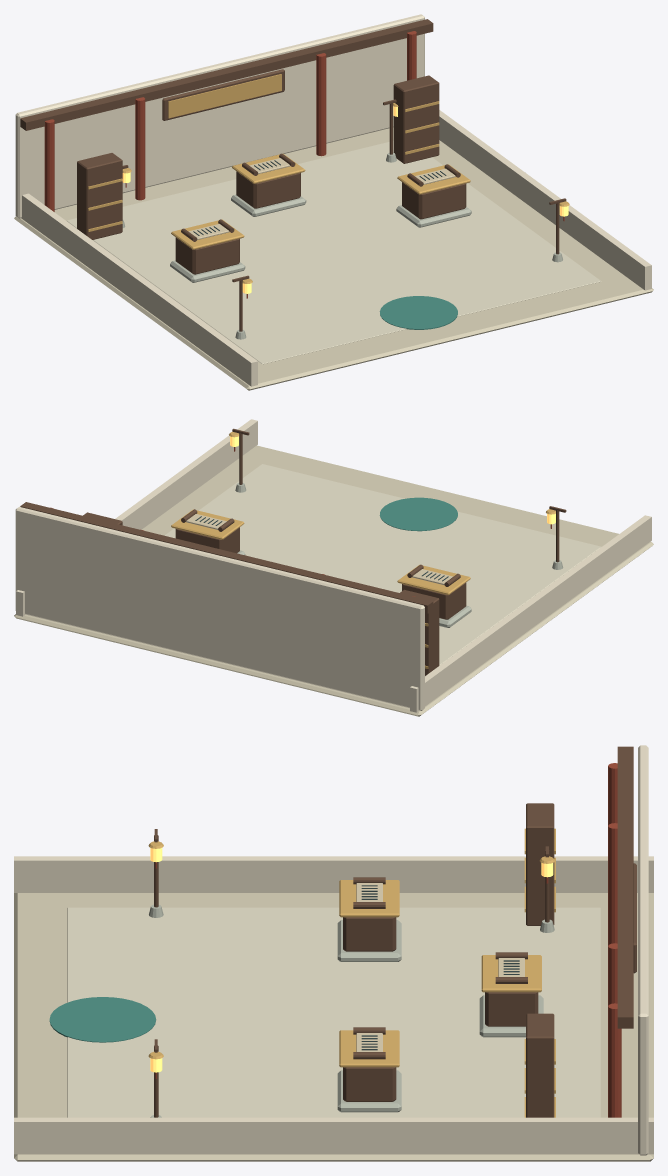
The picture shows the model from 3 angles, top to bottom: view 1: azimuth 30°, elevation 25°; view 2: azimuth 150°, elevation 25°; view 3: azimuth 270°, elevation 25°; orthographic projection. The views are drawn at different scales.
Parts seen in each view (by area): view 1: Village_PavingLight, Village_Plaster, Village_Wood, Village_Paving, Village_Gold, Village_RedWood, Village_Stone, Village_Jade, Village_Ivory; view 2: Village_Plaster, Village_PavingLight, Village_Paving, Village_Wood, Village_Jade, Village_Gold, Village_Ivory, Village_Stone; view 3: Village_PavingLight, Village_Plaster, Village_Paving, Village_Wood, Village_Gold, Village_RedWood, Village_Jade, Village_Stone, Village_Ivory.
Boxes of the visible parts, left/top/right/bottom form: Village_PavingLight: left=67, top=141, right=601, bottom=364; Village_Plaster: left=15, top=14, right=651, bottom=386; Village_Wood: left=20, top=19, right=566, bottom=331; Village_Paving: left=14, top=127, right=653, bottom=390; Village_Gold: left=88, top=74, right=569, bottom=283; Village_RedWood: left=44, top=31, right=564, bottom=298; Village_Stone: left=122, top=152, right=562, bottom=339; Village_Jade: left=379, top=296, right=457, bottom=329; Village_Ivory: left=188, top=158, right=455, bottom=239; Village_Plaster: left=15, top=419, right=651, bottom=712; Village_PavingLight: left=165, top=464, right=600, bottom=665; Village_Paving: left=14, top=445, right=653, bottom=716; Village_Wood: left=20, top=428, right=566, bottom=675; Village_Jade: left=379, top=497, right=457, bottom=531; Village_Gold: left=171, top=431, right=555, bottom=668; Village_Ivory: left=186, top=514, right=452, bottom=585; Village_Stone: left=235, top=483, right=563, bottom=627; Village_PavingLight: left=67, top=907, right=600, bottom=1117; Village_Plaster: left=14, top=745, right=653, bottom=1155; Village_Paving: left=14, top=893, right=653, bottom=1161; Village_Wood: left=154, top=746, right=636, bottom=1117; Village_Gold: left=148, top=828, right=555, bottom=1117; Village_RedWood: left=155, top=763, right=621, bottom=1117; Village_Jade: left=49, top=997, right=156, bottom=1042; Village_Stone: left=149, top=904, right=554, bottom=1117; Village_Ivory: left=356, top=883, right=524, bottom=1051.
Bounding box in the file's own units: 18 × 4.6 × 18.
